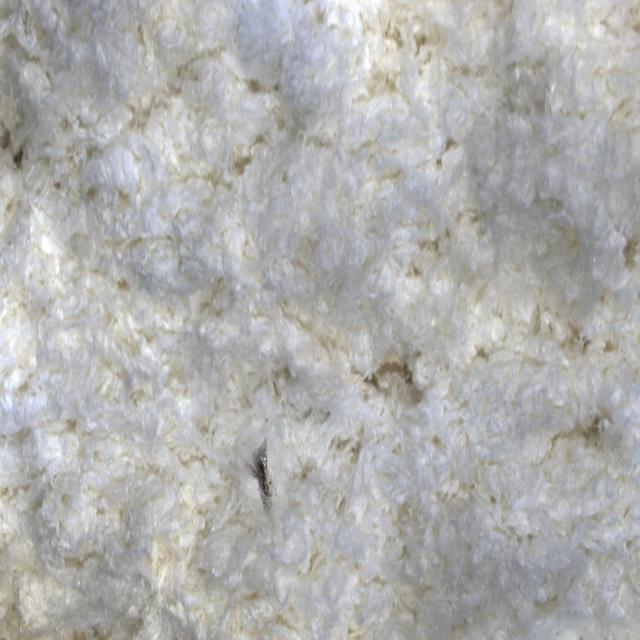dust: (223, 425, 300, 527)
